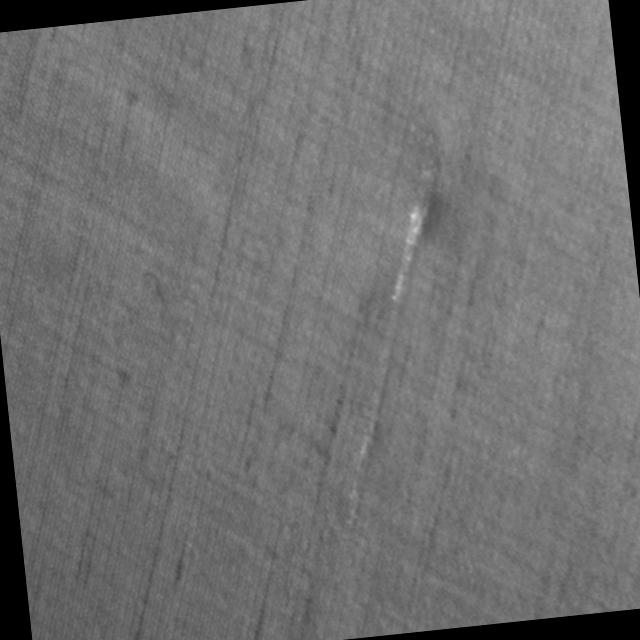thread error: (308, 125, 480, 518)
